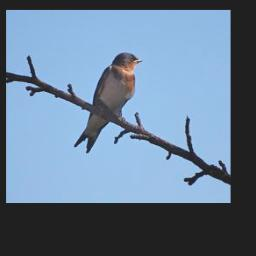Swallow: (74, 51, 143, 153)
